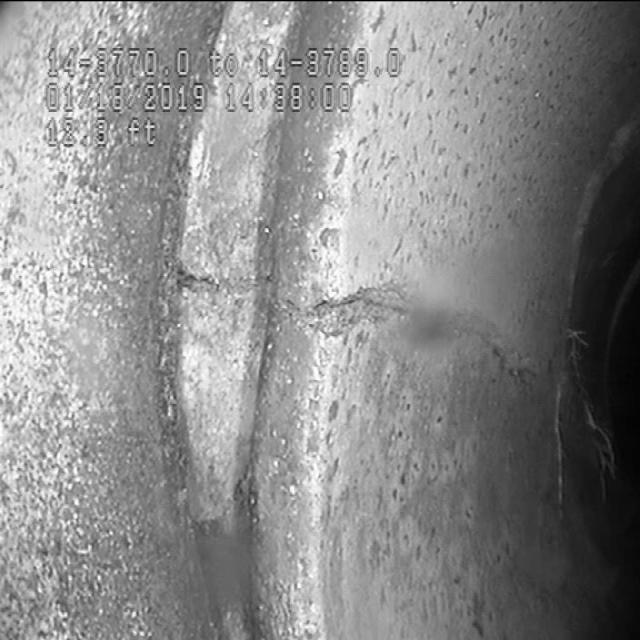Crack: (288, 252, 538, 392)
